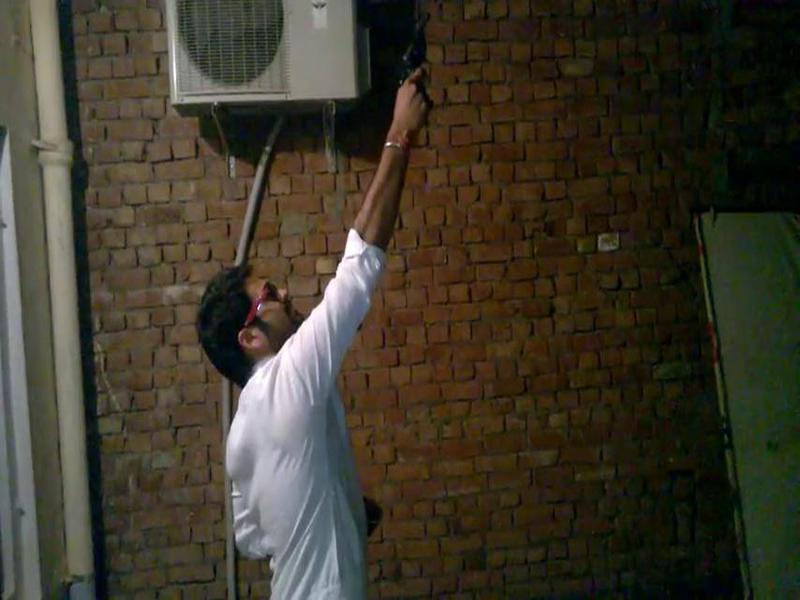Revolver: (386, 4, 448, 118)
